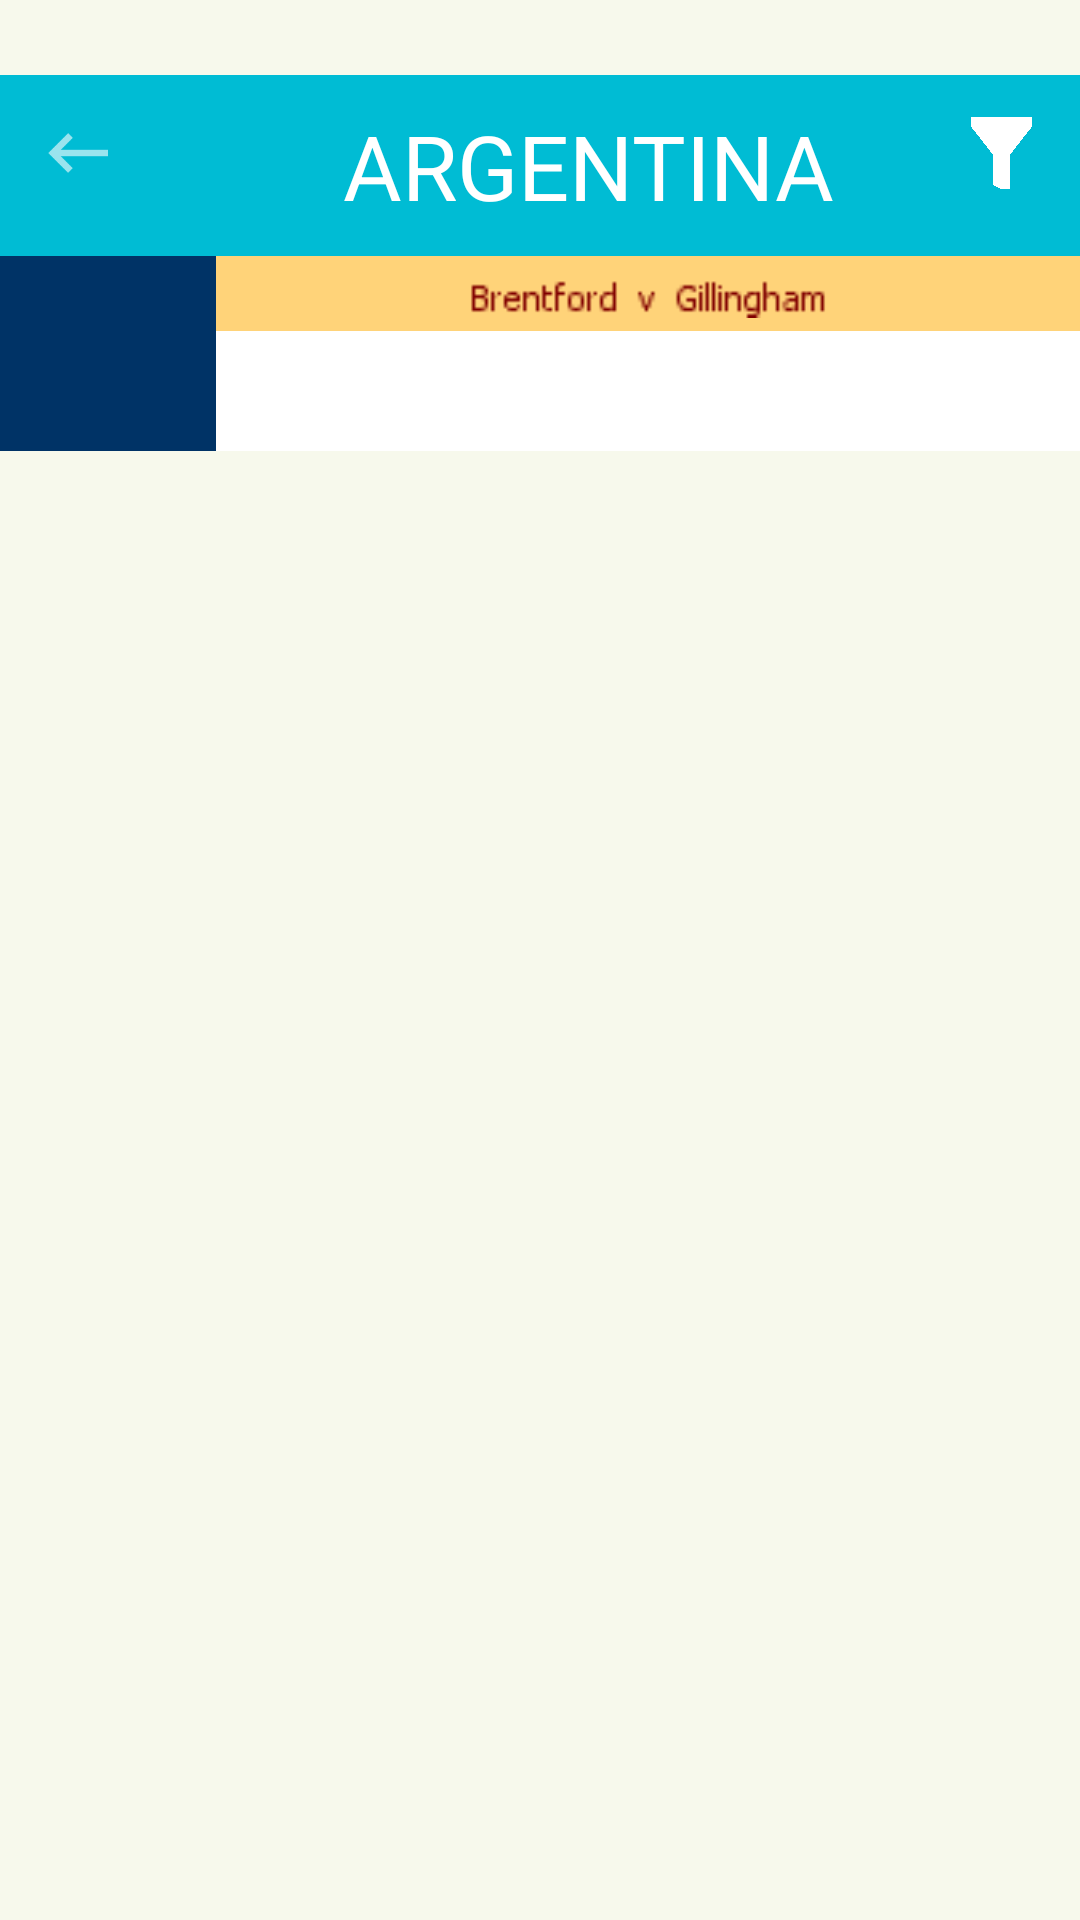

Icons on this 1080×1920 Android screen, each with its box as (x1, y1, x2, y2):
atras: (48, 133, 108, 173)
filtro: (971, 117, 1032, 189)
